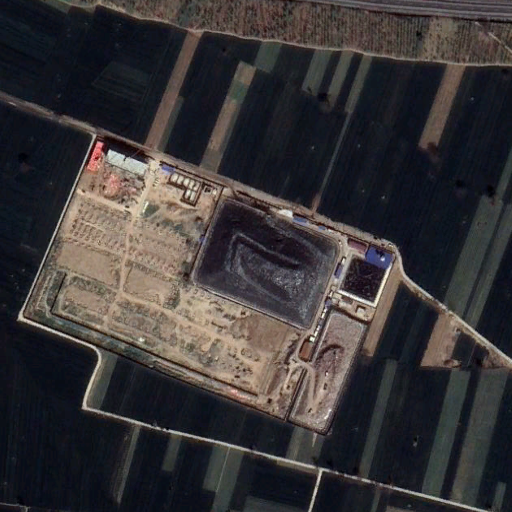lf: (186, 198, 337, 332)
